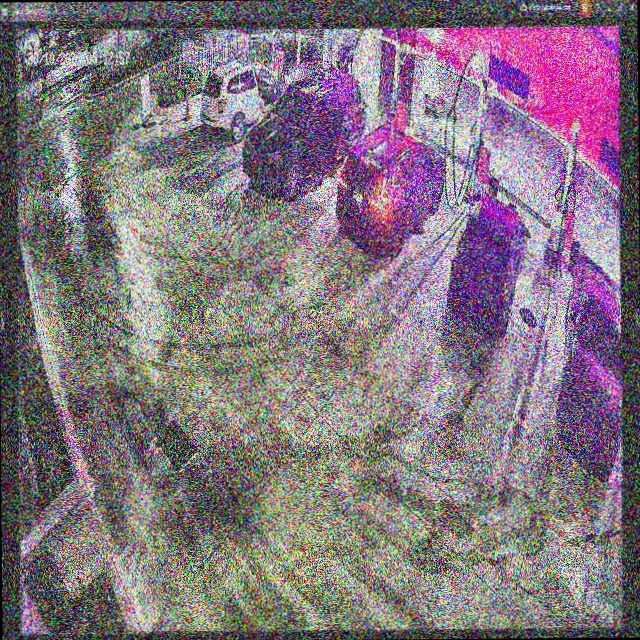Car: (245, 71, 366, 198), (337, 122, 445, 254), (451, 189, 527, 337)
